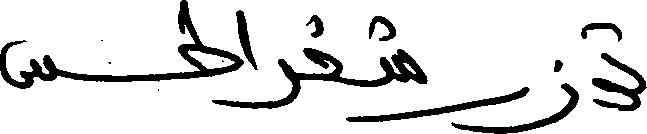X: (179, 0, 241, 112), (382, 12, 426, 126), (441, 82, 529, 133), (593, 18, 633, 115), (531, 55, 577, 133), (0, 35, 55, 93), (306, 10, 340, 87), (264, 54, 297, 113), (243, 7, 256, 113), (635, 65, 646, 114)
